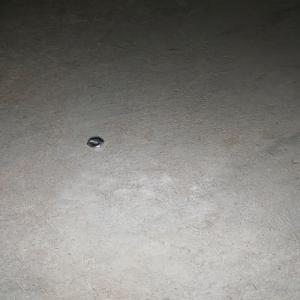Nut: (87, 138, 104, 148)
